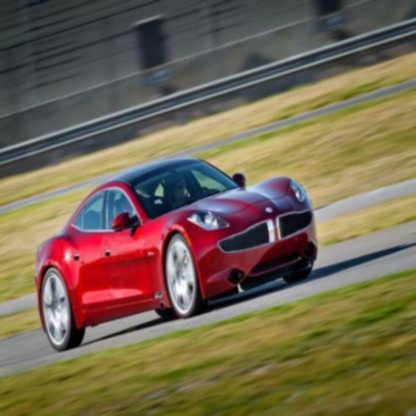Vehicle: (35, 156, 318, 355)
